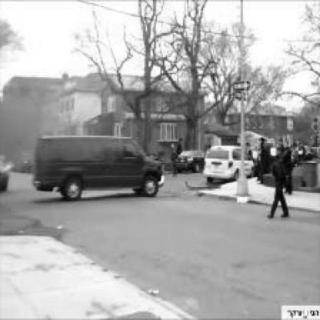Smoke: (0, 75, 64, 146)
